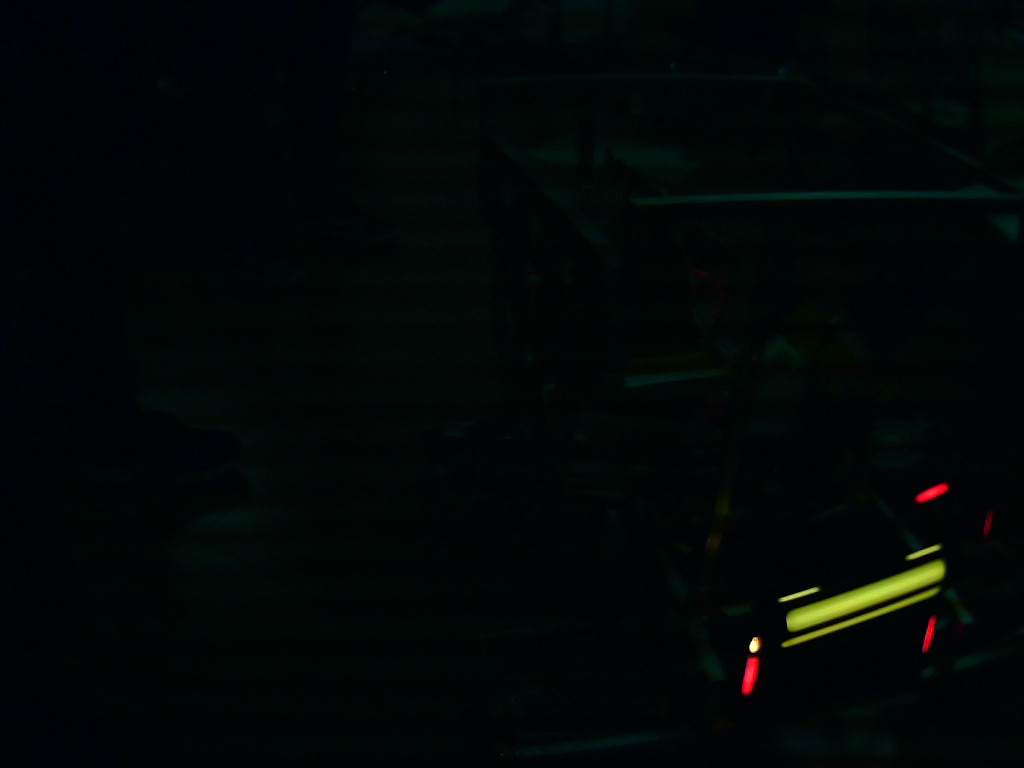lamp: (739, 654, 761, 698), (923, 616, 936, 655)
